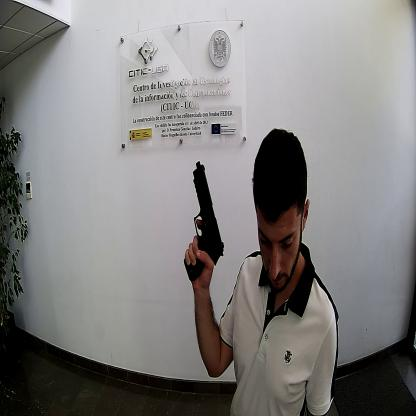pistol: (183, 160, 225, 282)
